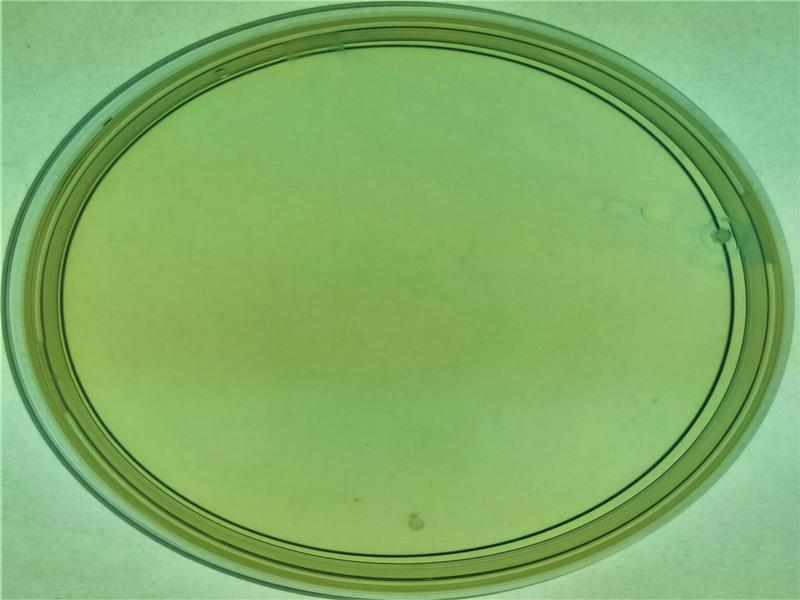colony: (349, 494, 364, 506)
